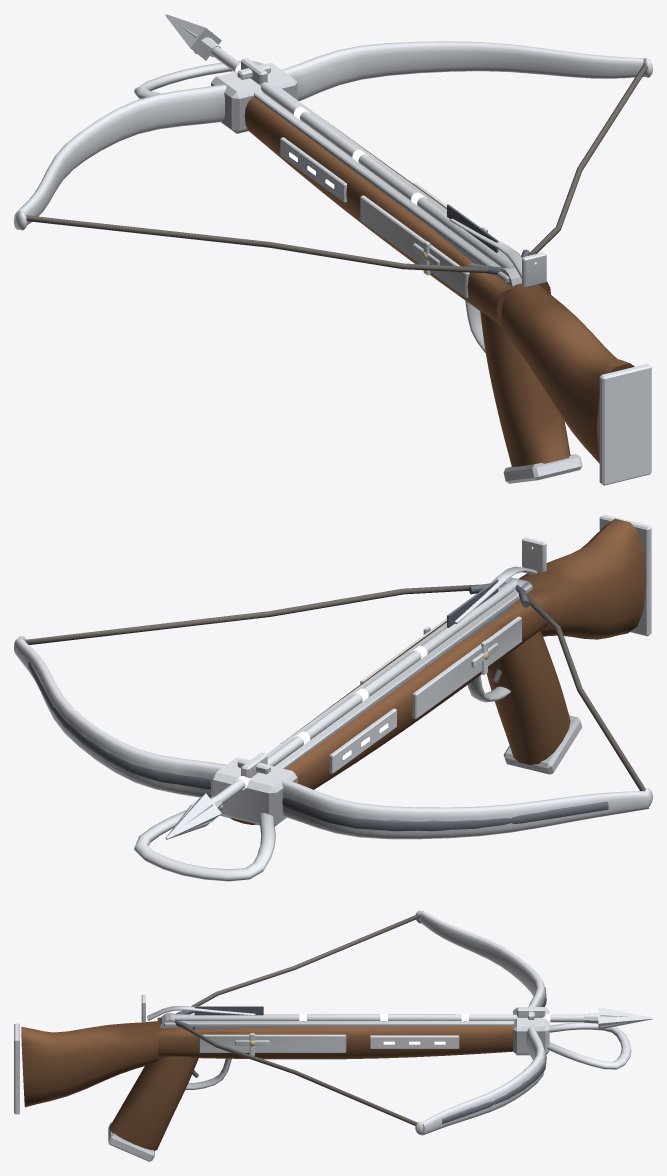
File: crossbow.glb
3 renders of one model, top to bottom at view 1: azimuth 30°, elevation 25°; view 2: azimuth 150°, elevation 25°; view 3: azimuth 270°, elevation 25°, orthographic. The views are drawn at different scales.
Parts seen in each view (by area): view 1: Body, LoadedBolt; view 2: Body, LoadedBolt; view 3: Body, LoadedBolt.
Part boxes in pixels (x1,y1,x2,y2): Body: (14,41,652,485); LoadedBolt: (165,14,514,267); Body: (14,514,652,881); LoadedBolt: (165,579,517,839); Body: (14,910,631,1161); LoadedBolt: (172,1006,652,1029).
Bounding box in the file's own units: 0.5004 × 0.1702 × 0.63.
